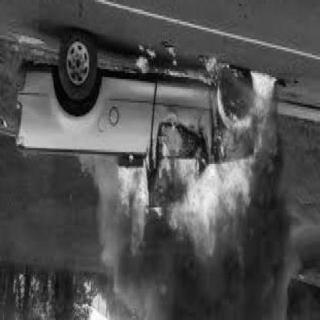Smoke: (93, 172, 121, 258)
